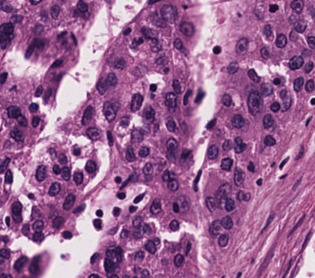nucleus: (215, 183, 230, 208), (247, 91, 261, 114), (289, 215, 304, 235), (160, 4, 176, 22), (103, 101, 117, 121), (280, 89, 291, 111), (130, 93, 142, 111), (179, 22, 194, 36), (165, 92, 176, 111), (82, 106, 93, 124), (262, 213, 273, 231), (141, 27, 157, 39), (236, 37, 248, 53), (177, 195, 189, 211), (289, 56, 303, 69), (150, 198, 161, 214), (234, 168, 244, 185), (290, 0, 303, 13), (247, 69, 260, 82), (232, 114, 244, 128), (86, 127, 100, 139), (193, 170, 201, 191), (234, 137, 245, 152), (63, 194, 74, 209), (210, 220, 221, 235), (97, 78, 107, 94), (48, 182, 60, 195), (105, 72, 116, 86), (131, 128, 142, 142), (166, 138, 177, 152), (144, 107, 154, 122), (294, 20, 306, 32), (36, 165, 45, 181), (220, 216, 232, 228), (302, 232, 311, 248), (221, 157, 232, 170), (263, 114, 273, 128), (208, 145, 218, 159), (125, 147, 135, 161), (224, 197, 234, 211), (206, 196, 215, 211), (153, 15, 165, 26), (261, 83, 272, 95), (85, 160, 96, 172), (52, 216, 63, 228), (276, 34, 286, 47), (151, 38, 161, 51), (166, 118, 176, 131), (264, 24, 272, 40), (294, 77, 303, 91), (61, 166, 70, 180), (227, 62, 238, 73), (138, 146, 149, 157), (77, 1, 87, 13), (113, 58, 125, 68), (183, 89, 191, 104), (168, 179, 178, 191), (33, 219, 43, 231), (133, 226, 143, 238), (50, 5, 59, 18), (73, 171, 82, 184), (264, 135, 275, 145), (121, 176, 131, 187), (132, 216, 142, 227), (222, 94, 231, 106), (143, 163, 152, 175), (218, 234, 227, 246), (260, 47, 269, 58), (305, 80, 314, 91), (73, 204, 84, 213), (169, 219, 178, 230), (32, 232, 43, 241), (173, 79, 180, 93), (132, 38, 142, 47), (270, 101, 279, 111), (206, 119, 215, 129), (222, 140, 231, 150), (279, 158, 288, 168), (134, 193, 144, 202), (174, 38, 182, 49), (156, 56, 167, 64), (51, 59, 62, 67), (305, 61, 313, 72), (195, 91, 203, 102), (162, 170, 170, 181), (307, 36, 314, 48), (107, 131, 113, 145), (120, 116, 128, 126), (35, 85, 42, 96), (34, 24, 42, 33), (29, 103, 38, 111), (182, 150, 190, 159), (32, 207, 40, 216), (93, 219, 101, 228), (142, 224, 150, 233), (32, 116, 39, 126), (296, 147, 302, 158), (269, 4, 277, 12), (58, 31, 66, 39), (290, 31, 297, 40), (36, 39, 43, 48), (59, 154, 66, 163), (53, 165, 60, 174), (113, 207, 120, 216), (62, 231, 71, 238), (45, 89, 51, 99), (72, 147, 79, 155), (121, 229, 128, 237), (248, 162, 254, 171), (237, 191, 243, 200), (173, 202, 178, 212), (213, 46, 220, 53), (243, 193, 250, 200), (117, 192, 125, 198), (123, 28, 130, 34), (273, 78, 280, 84), (150, 84, 156, 91), (129, 206, 136, 212), (109, 227, 116, 233), (30, 0, 40, 4), (96, 210, 102, 216), (115, 177, 120, 182), (257, 179, 261, 185), (311, 98, 314, 104), (148, 1, 155, 3)
